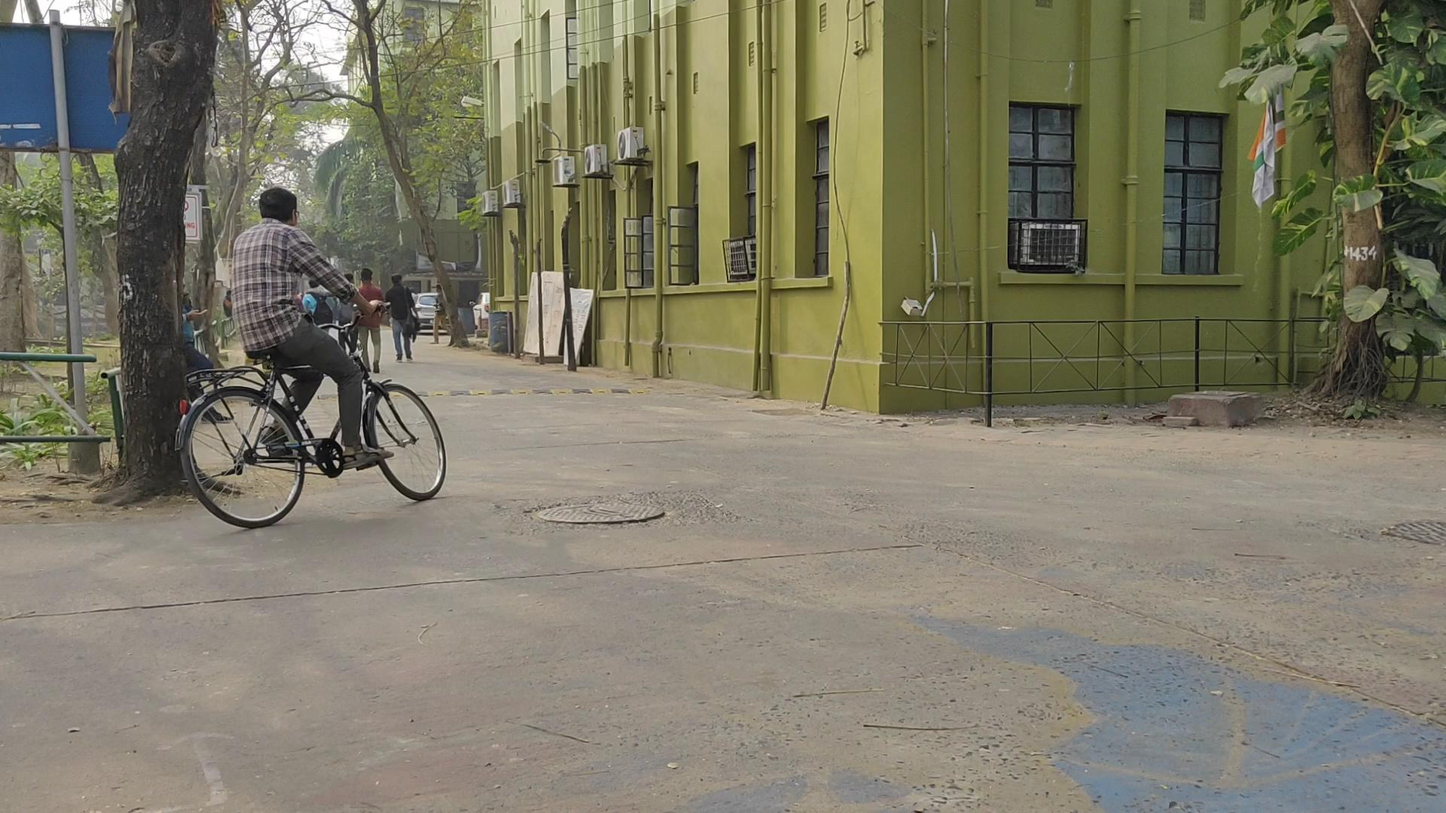bike: (175, 186, 448, 534)
